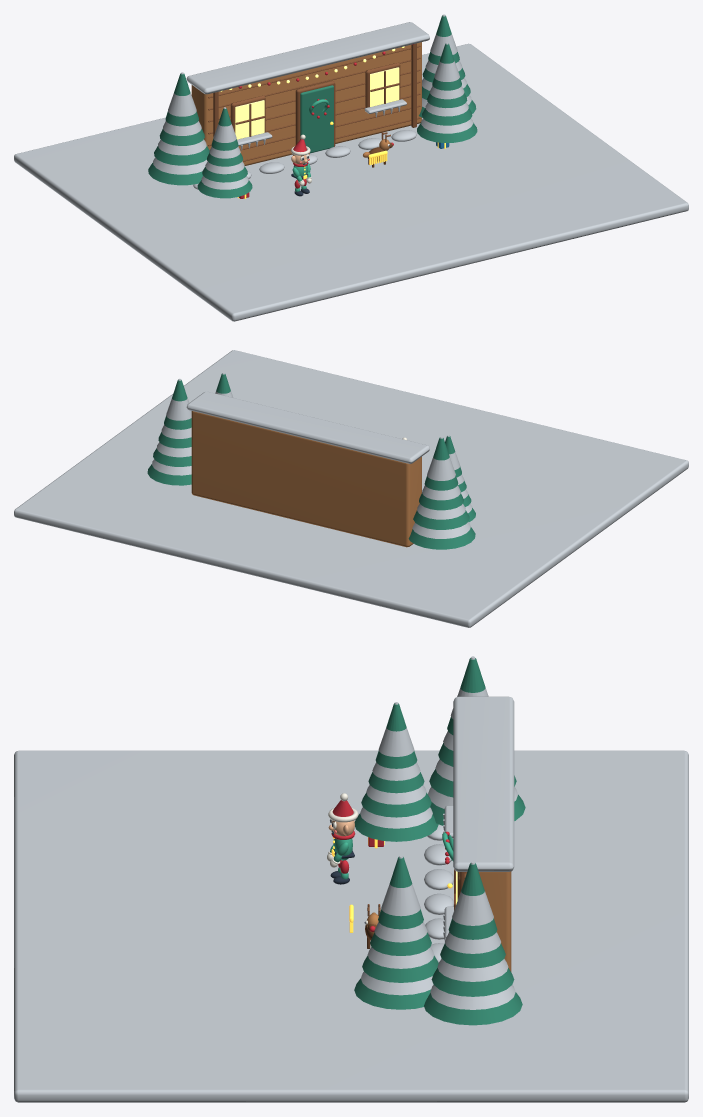
File: chapter-11.glb
The picture shows the model from 3 angles, top to bottom: view 1: azimuth 30°, elevation 25°; view 2: azimuth 150°, elevation 25°; view 3: azimuth 270°, elevation 25°; orthographic projection. The views are drawn at different scales.
Parts seen in each view (by area): view 1: Schneeboden, Werkstatt, Schneegesims, Wichteltür, Warmes Fenster, Warmes Fenster.001, Tannenzweig.004, Tannenzweig.008, Tannenzweig.009, Türrahmen, Tannenzweig.011, Schnee.011 (+7 smaller); view 2: Schneeboden, Werkstatt, Schneegesims, Tannenzweig.008, Tannenzweig.009, Tannenzweig.011, Schnee.008, Schnee.011, Tannenzweig.015, Tannenzweig.012, Tannenzweig.010, Schnee.009 (+1 smaller); view 3: Schneeboden, Schneegesims, Werkstatt, Tannenzweig.012, Tannenzweig.013, Tannenzweig.015, Tannenzweig, Schnee.012, Tannenzweig.005, Tannenzweig.004, Schnee.015, Tannenzweig.007 (+15 smaller).
Boxes of the visible parts, left/top/right/bottom form: Schneeboden: left=14, top=43, right=688, bottom=321; Werkstatt: left=191, top=42, right=421, bottom=165; Schneegesims: left=186, top=22, right=429, bottom=94; Wichteltür: left=300, top=85, right=333, bottom=153; Warmes Fenster: left=235, top=100, right=264, bottom=139; Warmes Fenster.001: left=370, top=67, right=399, bottom=106; Tannenzweig.004: left=417, top=122, right=477, bottom=142; Tannenzweig.008: left=148, top=163, right=202, bottom=185; Tannenzweig.009: left=154, top=146, right=209, bottom=165; Türrahmen: left=295, top=81, right=335, bottom=146; Tannenzweig.011: left=165, top=73, right=198, bottom=126; Schnee.011: left=168, top=72, right=196, bottom=116; Schneeboden: left=14, top=350, right=688, bottom=627; Werkstatt: left=191, top=411, right=421, bottom=547; Schneegesims: left=186, top=391, right=429, bottom=463; Tannenzweig.008: left=408, top=527, right=475, bottom=549; Tannenzweig.009: left=413, top=510, right=469, bottom=529; Tannenzweig.011: left=424, top=437, right=458, bottom=490; Schnee.008: left=412, top=522, right=470, bottom=538; Schnee.011: left=427, top=436, right=455, bottom=480; Tannenzweig.015: left=164, top=380, right=191, bottom=429; Tannenzweig.012: left=147, top=464, right=191, bottom=485; Tannenzweig.010: left=419, top=493, right=463, bottom=510; Schnee.009: left=417, top=504, right=465, bottom=519; Schneeboden: left=14, top=750, right=688, bottom=1102; Schneegesims: left=453, top=696, right=514, bottom=871; Werkstatt: left=466, top=871, right=511, bottom=971; Tannenzweig.012: left=424, top=992, right=522, bottom=1025; Tannenzweig.013: left=431, top=968, right=514, bottom=996; Tannenzweig.015: left=448, top=863, right=497, bottom=939; Tannenzweig: left=354, top=813, right=438, bottom=841; Schnee.012: left=430, top=985, right=515, bottom=1009; Tannenzweig.005: left=362, top=955, right=438, bottom=982; Tannenzweig.004: left=354, top=978, right=430, bottom=1009; Schnee.015: left=452, top=861, right=493, bottom=925; Tannenzweig.007: left=378, top=857, right=423, bottom=929.
Size of the model in its own units: 18 by 4.39 by 15.
